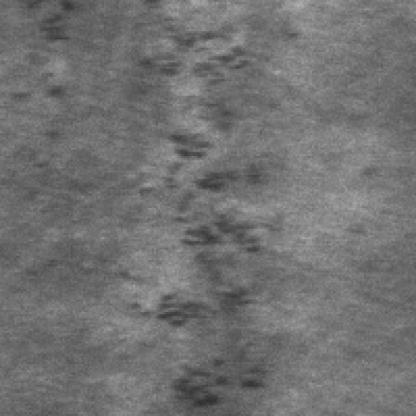rolled-in_scale: (135, 85, 287, 314), (139, 2, 258, 129), (156, 281, 270, 412), (8, 0, 84, 104)
